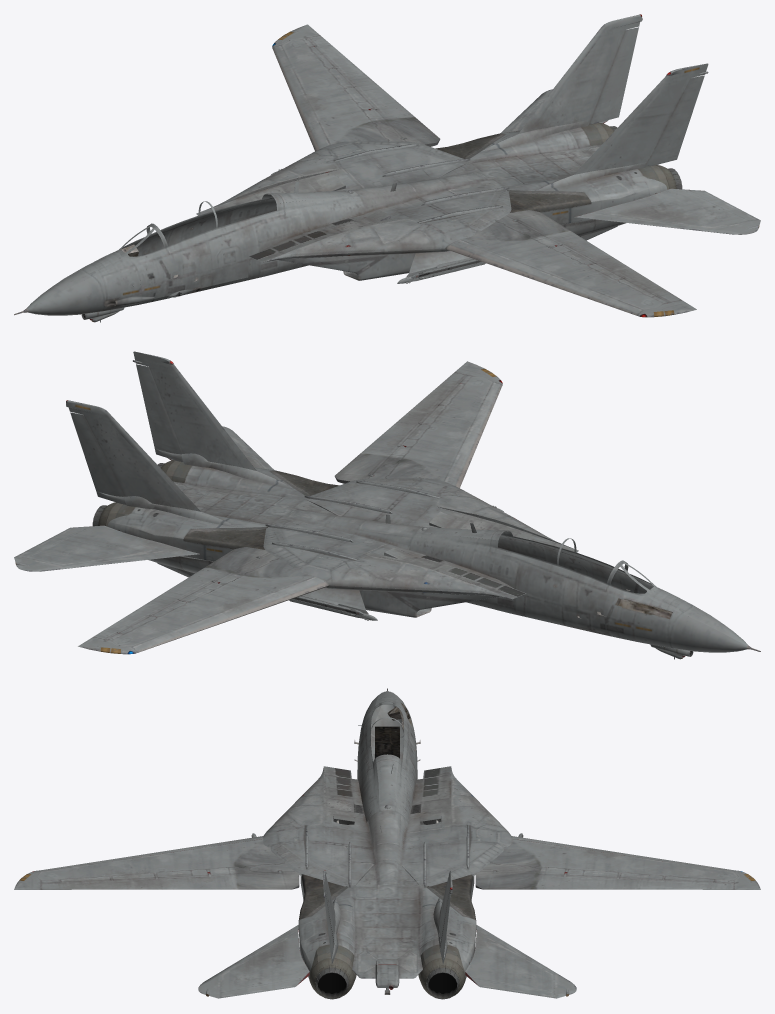
The model's file is f14_game.glb.
The picture shows the model from 3 angles, top to bottom: view 1: azimuth 30°, elevation 25°; view 2: azimuth 150°, elevation 25°; view 3: azimuth 270°, elevation 25°; orthographic projection. The views are drawn at different scales.
Parts seen in each view (by area): view 1: Airframe; view 2: Airframe; view 3: Airframe.
Part boxes in pixels (bbox=[...]): Airframe: bbox=[14, 14, 760, 322]; Airframe: bbox=[14, 351, 760, 659]; Airframe: bbox=[14, 688, 760, 999].
Bounding box in the file's own units: 8.82 × 2.09 × 9.
1 material, 1 textured.
